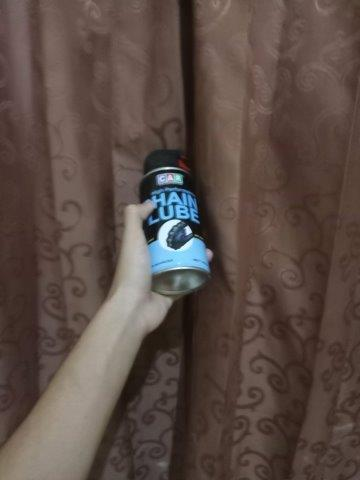kaleng: (138, 166, 210, 296)
